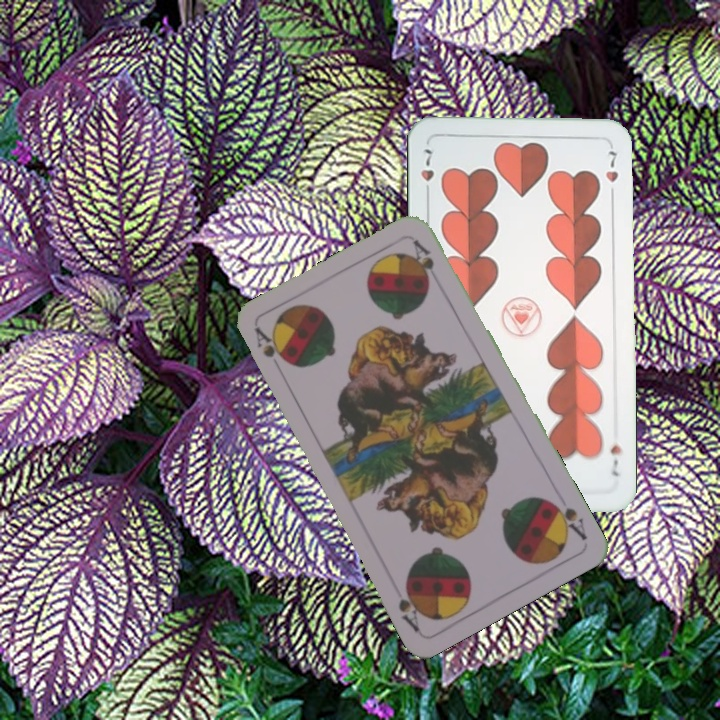H7: (416, 145, 436, 201), (607, 440, 625, 479)
SA: (544, 495, 590, 543), (251, 324, 286, 364)
